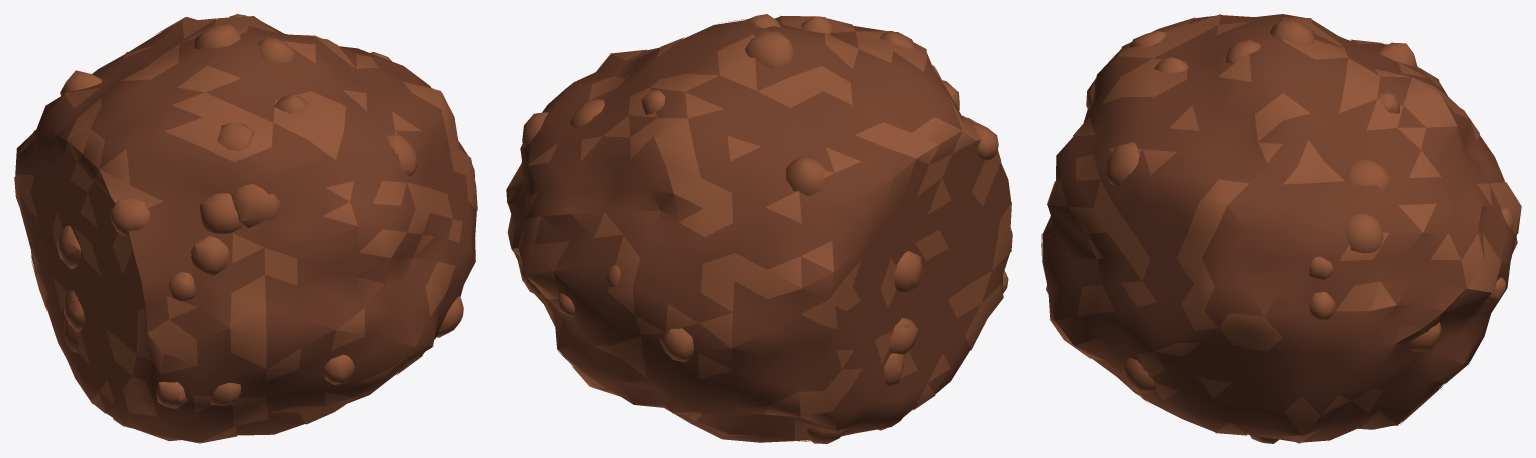
The model's file is ore_aluminum.glb.
3 renders of one model, left to right at view 1: azimuth 30°, elevation 25°; view 2: azimuth 150°, elevation 25°; view 3: azimuth 270°, elevation 25°, orthographic. The views are drawn at different scales.
Parts seen in each view (by area): view 1: aluminum_matrix, aluminum_ochre_crust, aluminum_pisolites; view 2: aluminum_matrix, aluminum_ochre_crust, aluminum_pisolites; view 3: aluminum_matrix, aluminum_ochre_crust, aluminum_pisolites.
Boxes of the visible parts, x1=… form: aluminum_matrix: x1=15, y1=19, x2=476, y2=442; aluminum_ochre_crust: x1=14, y1=16, x2=477, y2=443; aluminum_pisolites: x1=56, y1=14, x2=463, y2=428; aluminum_matrix: x1=507, y1=17, x2=1011, y2=442; aluminum_ochre_crust: x1=506, y1=16, x2=1012, y2=441; aluminum_pisolites: x1=521, y1=14, x2=1008, y2=443; aluminum_matrix: x1=1042, y1=14, x2=1516, y2=442; aluminum_ochre_crust: x1=1041, y1=14, x2=1521, y2=443; aluminum_pisolites: x1=1046, y1=18, x2=1517, y2=443.
Bounding box in the file's own units: 0.9727 × 0.8827 × 1.
